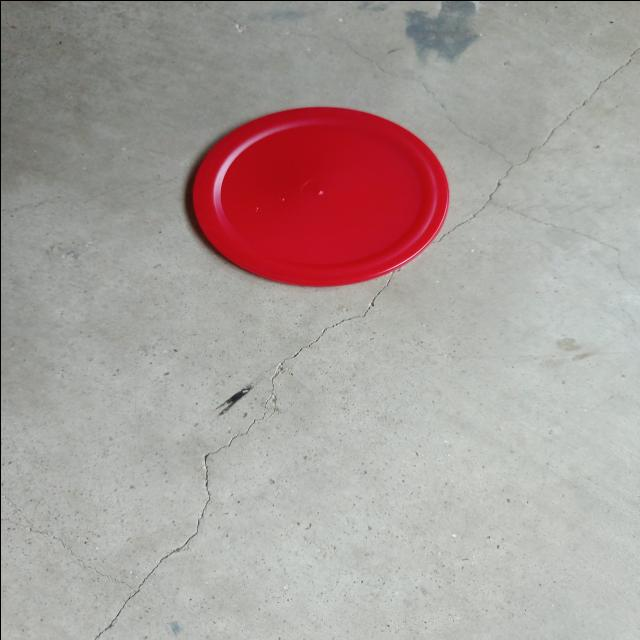chip: (192, 105, 452, 286)
